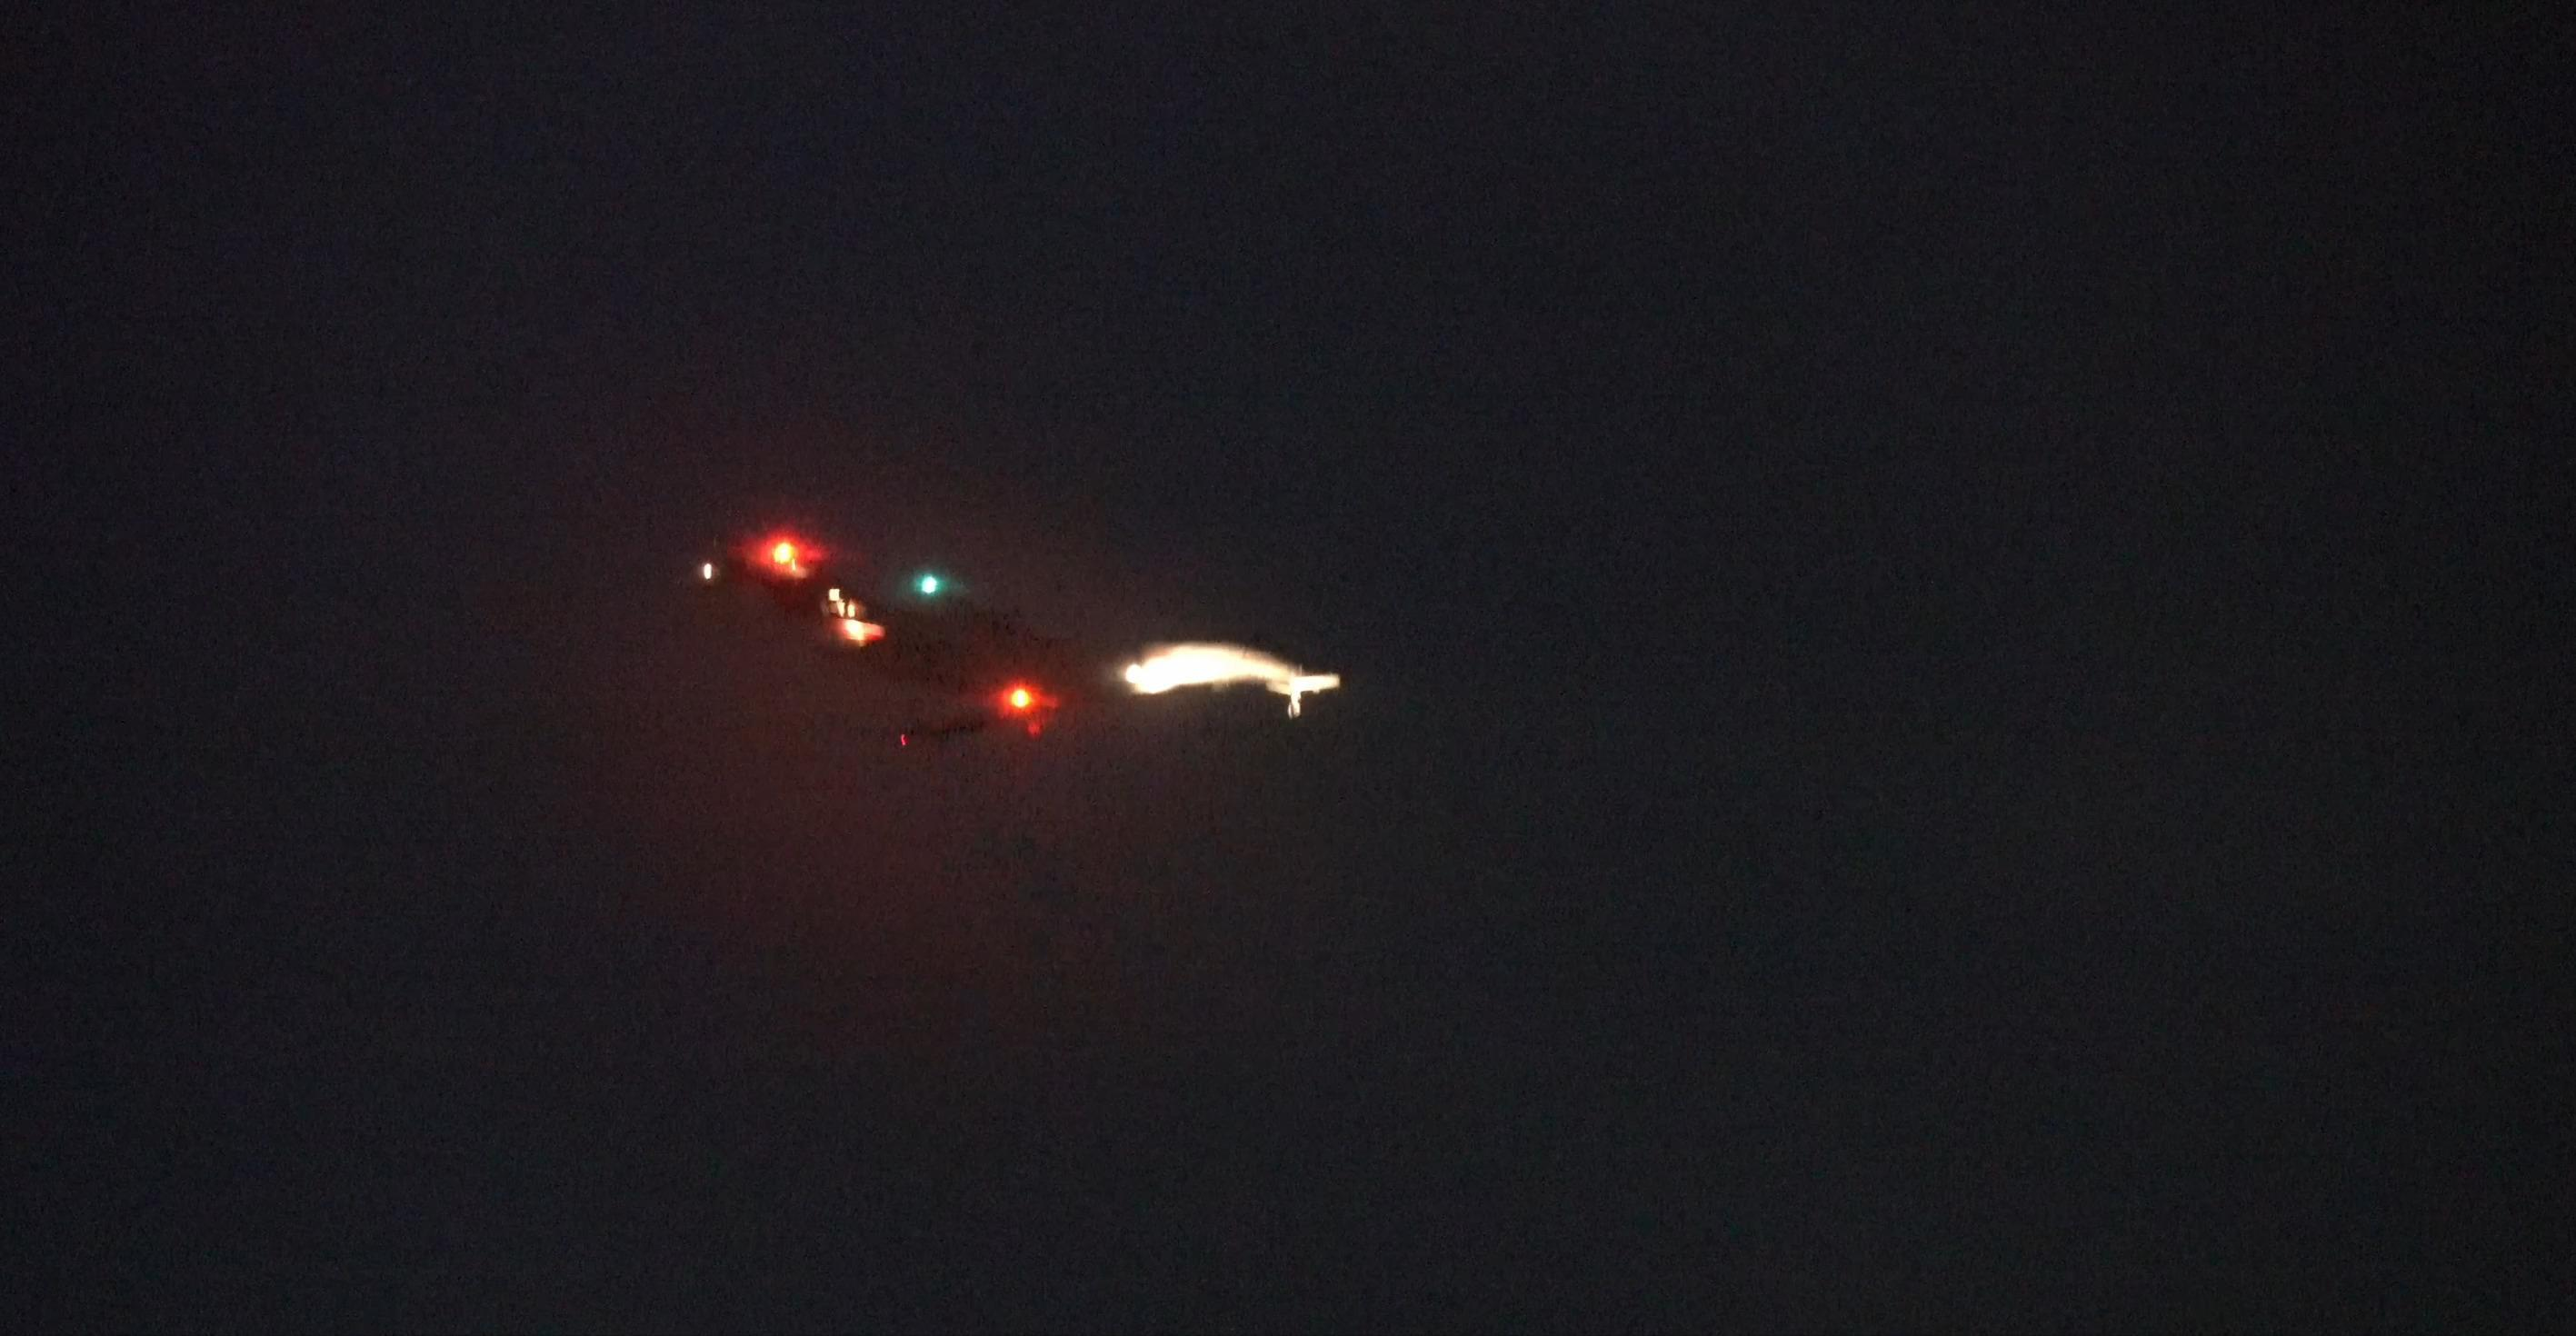Plane: (676, 523, 1310, 736)
